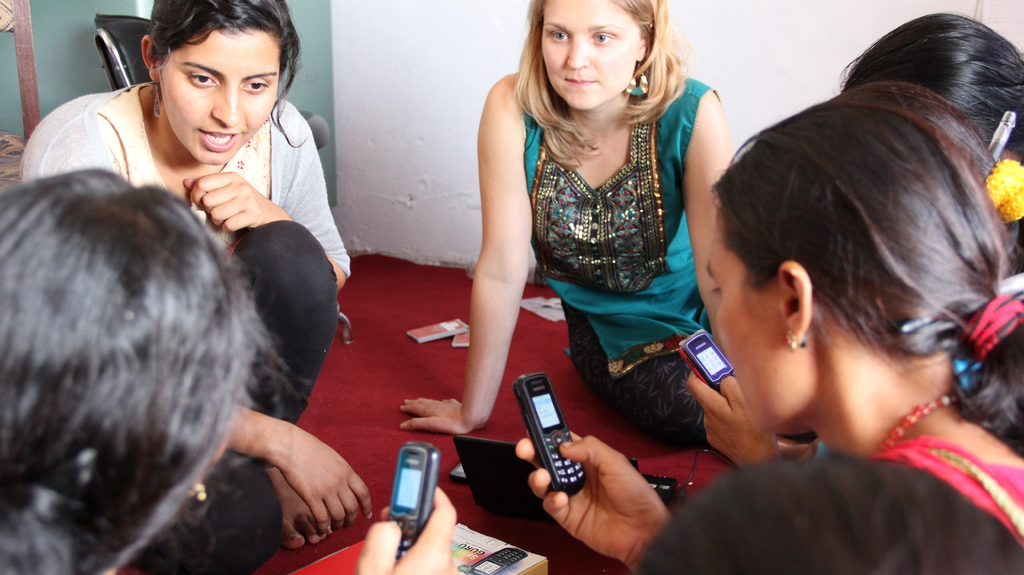Human-face: (148, 22, 282, 166), (712, 208, 774, 430), (541, 0, 642, 114)
